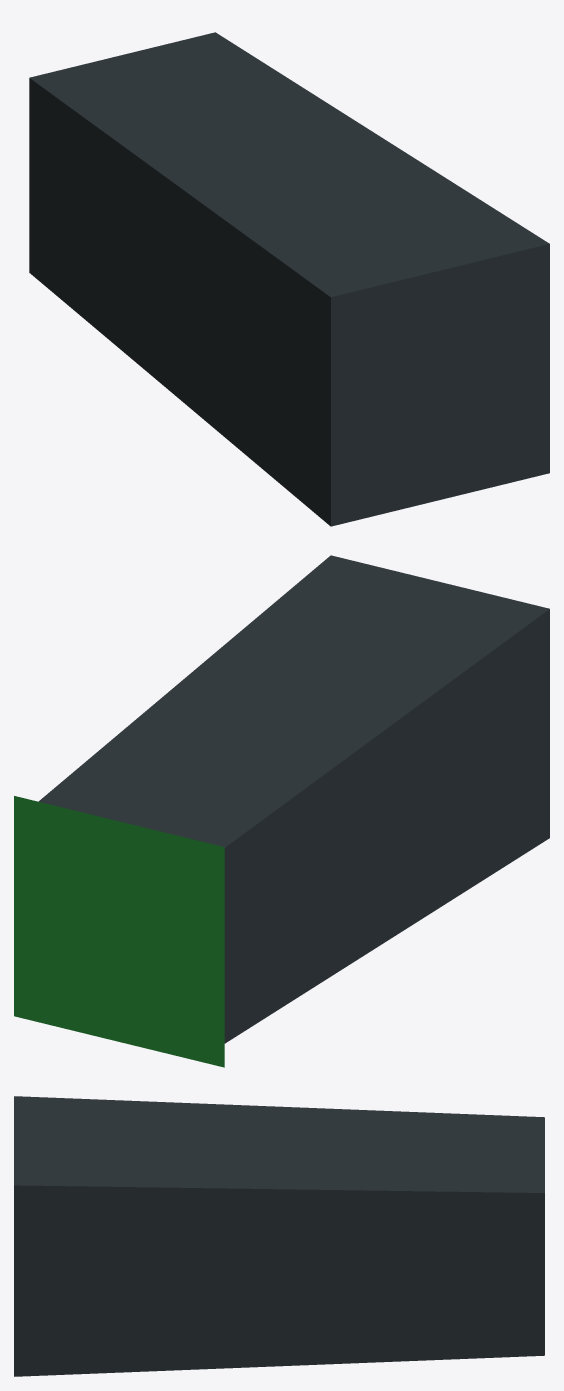
The picture shows the model from 3 angles, top to bottom: view 1: azimuth 30°, elevation 25°; view 2: azimuth 150°, elevation 25°; view 3: azimuth 270°, elevation 25°; orthographic projection. The views are drawn at different scales.
Parts seen in each view (by area): view 1: mount; view 2: mount; view 3: mount.
Boxes of the visible parts, <box> form: mount: <box>29,32,549,526</box>; mount: <box>14,555,549,1067</box>; mount: <box>14,1096,544,1376</box>.
Size of the model in its own units: 1.27 by 1.27 by 3.23.
